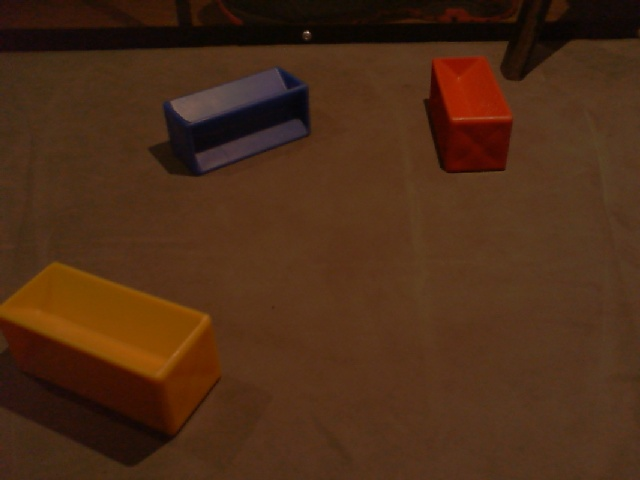BlueSample: (161, 65, 313, 178)
RedSample: (428, 55, 517, 175)
YellowSample: (1, 259, 219, 438)
